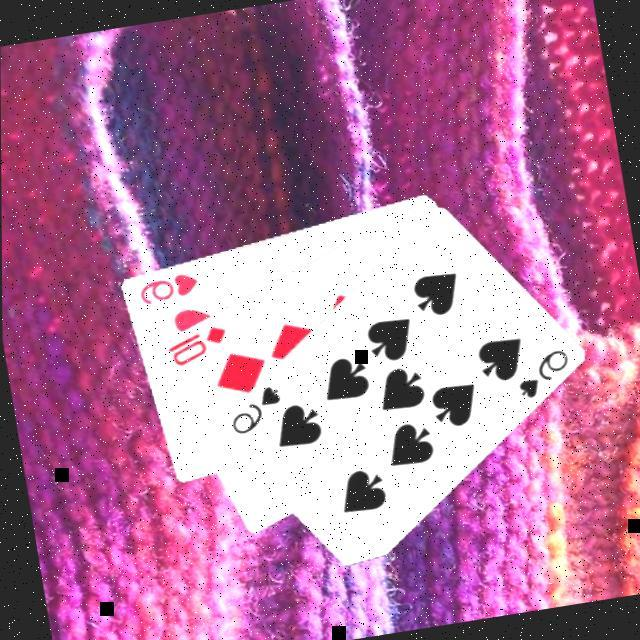10D: (161, 322, 233, 373)
6H: (134, 269, 204, 311)
9S: (510, 346, 577, 406), (222, 382, 289, 441)
